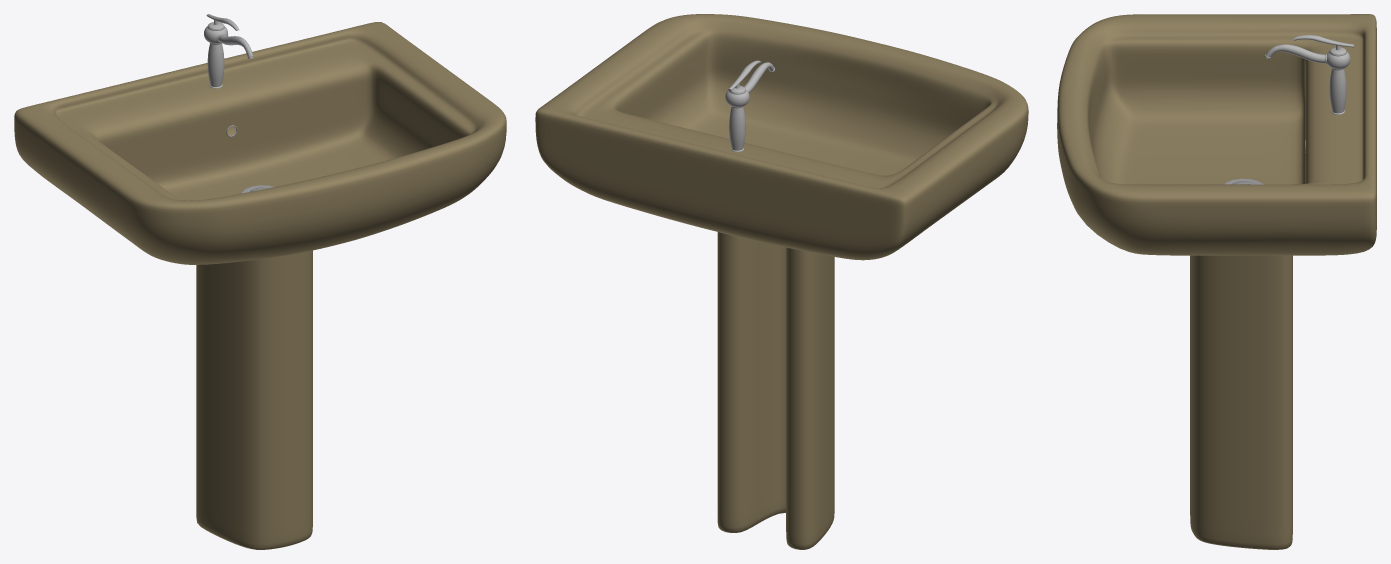
File: lavabo.glb
3 views of the same model, side by side, from view 1: azimuth 30°, elevation 25°; view 2: azimuth 150°, elevation 25°; view 3: azimuth 270°, elevation 25° (orthographic).
Visible parts, largest first — view 1: Lavabo_2, Rubinetto_5; view 2: Lavabo_2, Rubinetto_5; view 3: Lavabo_2, Rubinetto_5.
Boxes of the visible parts, left/top/right/bottom form: Lavabo_2: left=14, top=22, right=506, bottom=549; Rubinetto_5: left=204, top=14, right=253, bottom=88; Lavabo_2: left=535, top=14, right=1028, bottom=549; Rubinetto_5: left=725, top=60, right=774, bottom=151; Lavabo_2: left=1057, top=14, right=1376, bottom=549; Rubinetto_5: left=1265, top=35, right=1353, bottom=114.
Size of the model in its own units: 1.12 by 1.4 by 0.822.
